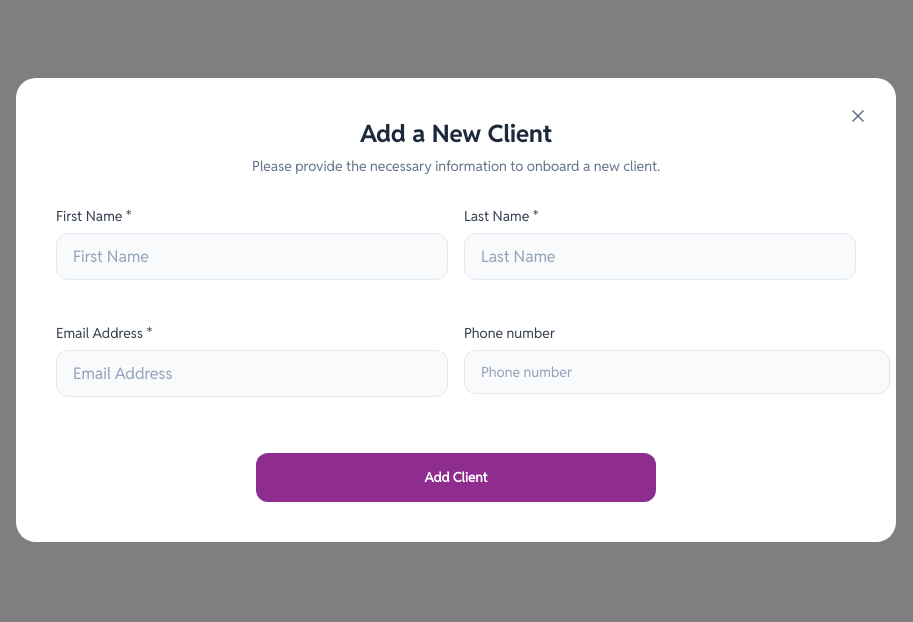
it: AddClientModal › tells a team member at the limit to ask the account owner
Type "Jane" into the field with placeholder "First Name" at point(252, 256), box [56, 233, 448, 280]
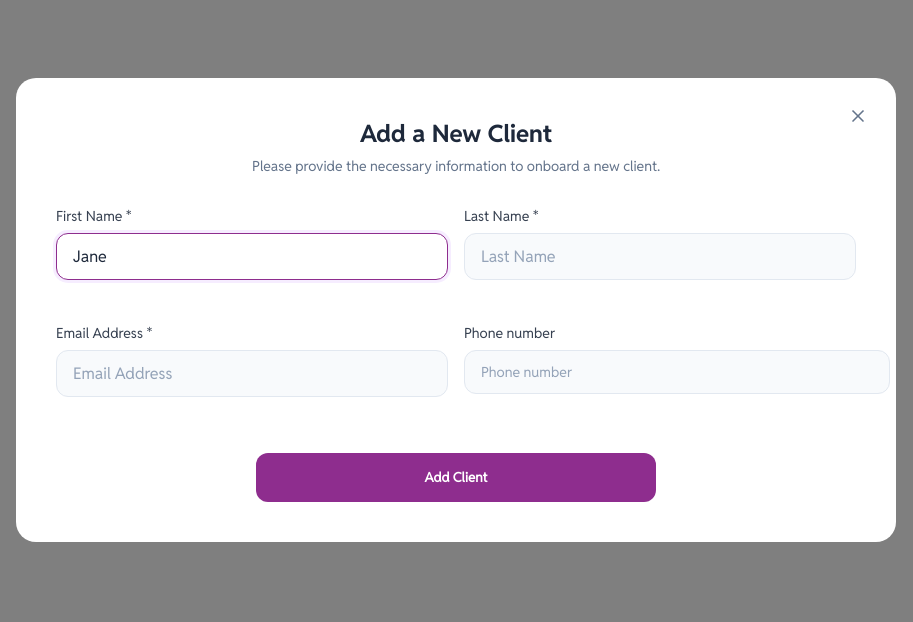
Type "Doe" into the field with placeholder "Last Name" at point(660, 256), box [464, 233, 856, 280]
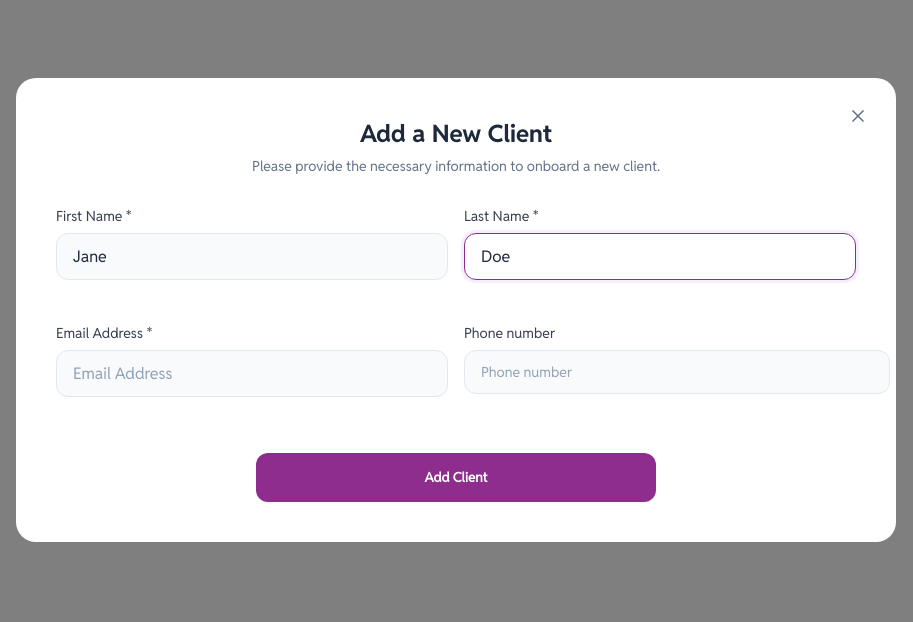
Type "jane@x.com" into the field with placeholder "Email Address" at point(252, 374), box [56, 350, 448, 397]
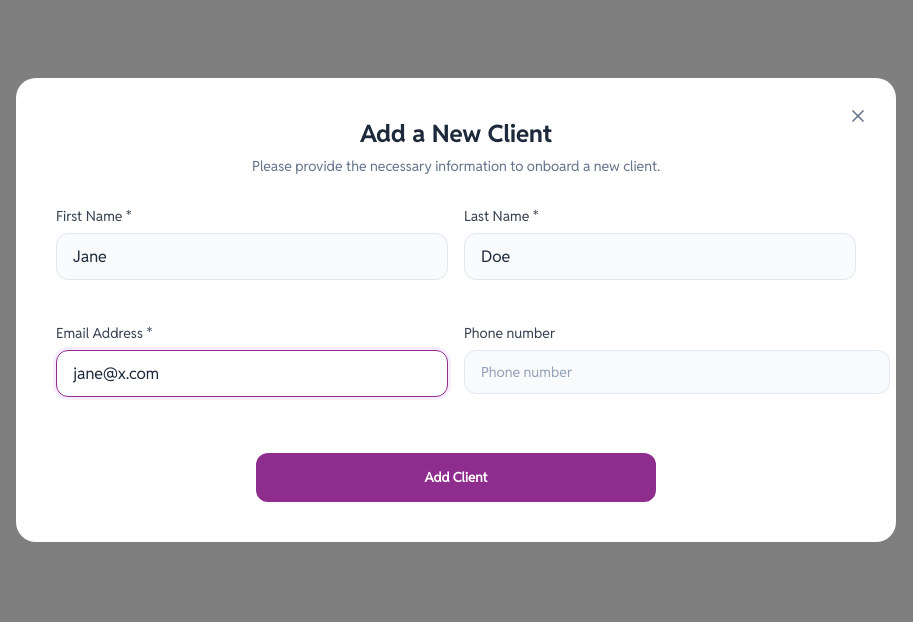
Click the button "Add Client" at point(456, 478), box [256, 453, 656, 502]
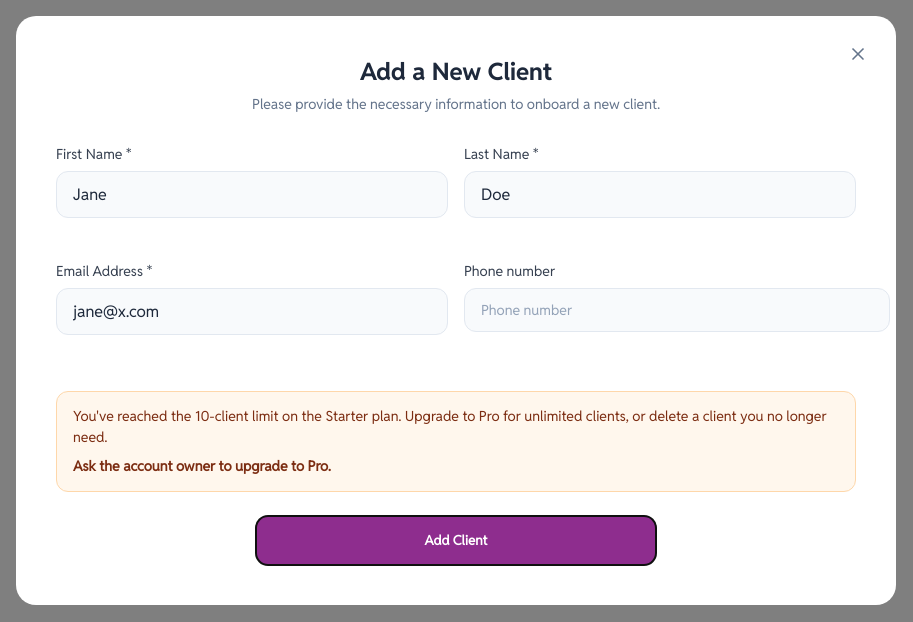
Now the message shows "Ask the account owner to upgrade to Pro.", box [73, 456, 331, 474]
